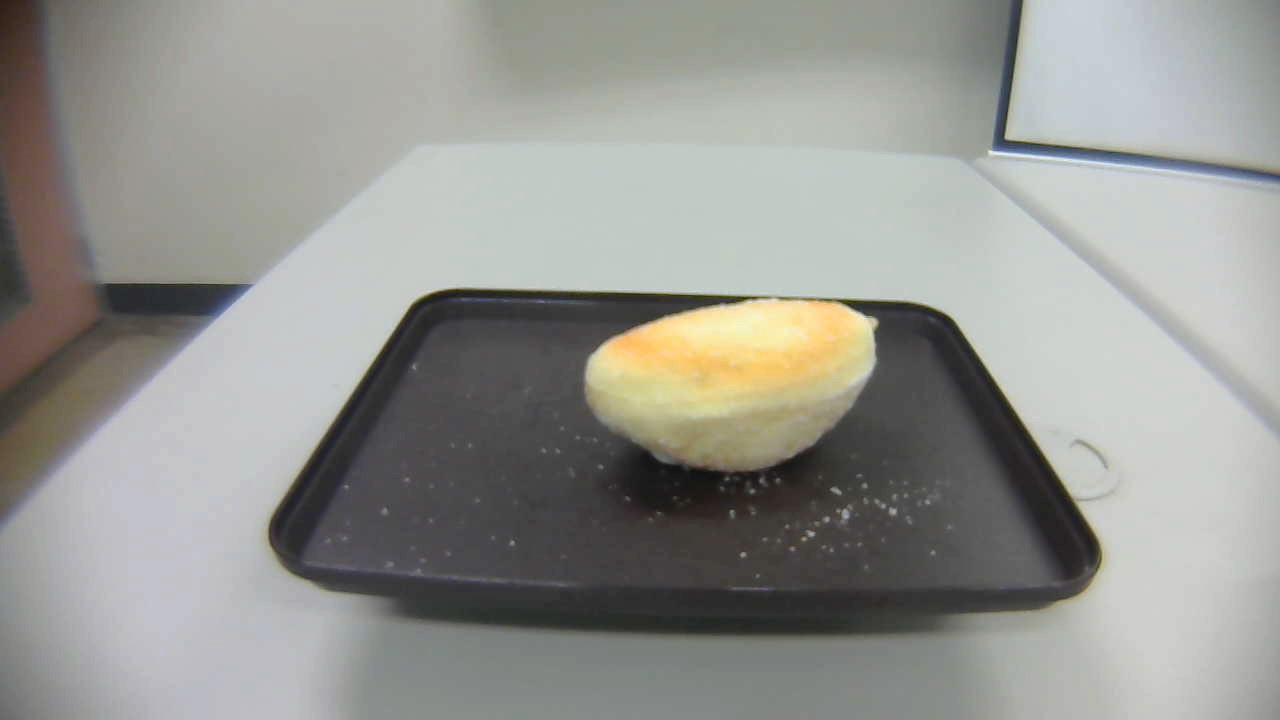coconut: (582, 298, 882, 475)
